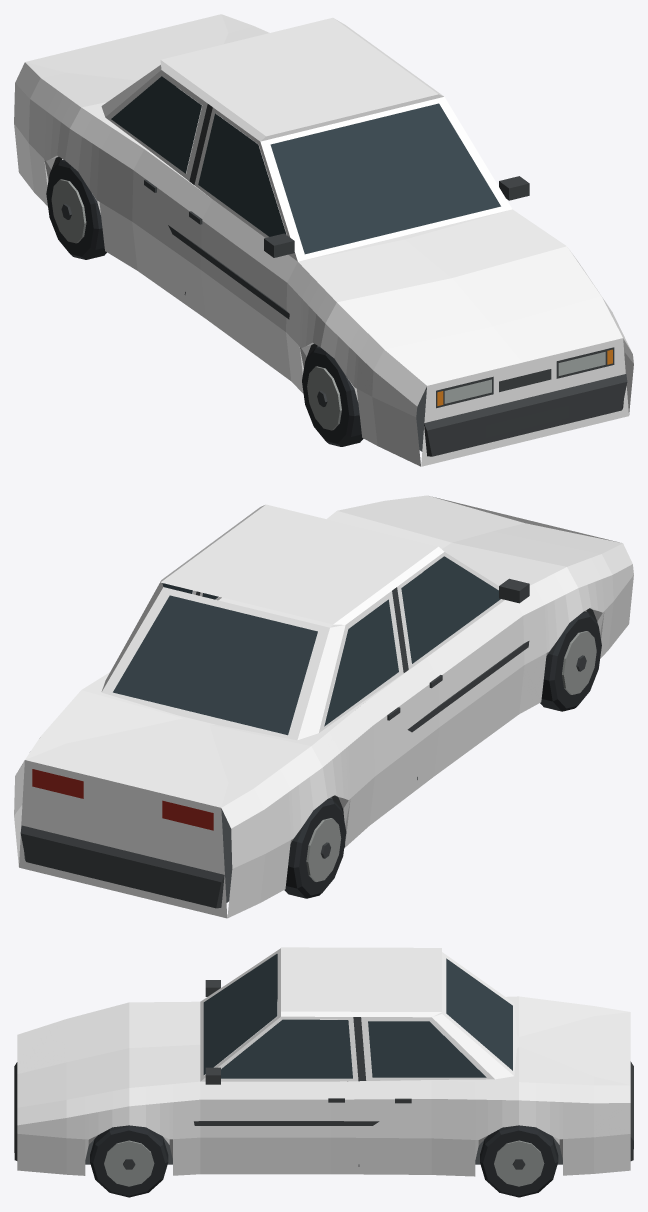
The model's file is hozuki_isaribi_gts_98.glb.
3 views of the same model, one above another, from view 1: azimuth 30°, elevation 25°; view 2: azimuth 150°, elevation 25°; view 3: azimuth 270°, elevation 25° (orthographic). The views are drawn at different scales.
Visible parts, largest first — view 1: hozuki_isaribi_gts_98; view 2: hozuki_isaribi_gts_98; view 3: hozuki_isaribi_gts_98.
Part boxes in pixels (box(x1,y1,x2,y2)): hozuki_isaribi_gts_98: box(14, 14, 633, 466); hozuki_isaribi_gts_98: box(14, 495, 633, 918); hozuki_isaribi_gts_98: box(14, 947, 633, 1197).
Bounding box in the file's own units: 1.79 × 1.47 × 4.8.
8 materials, 1 textured.
